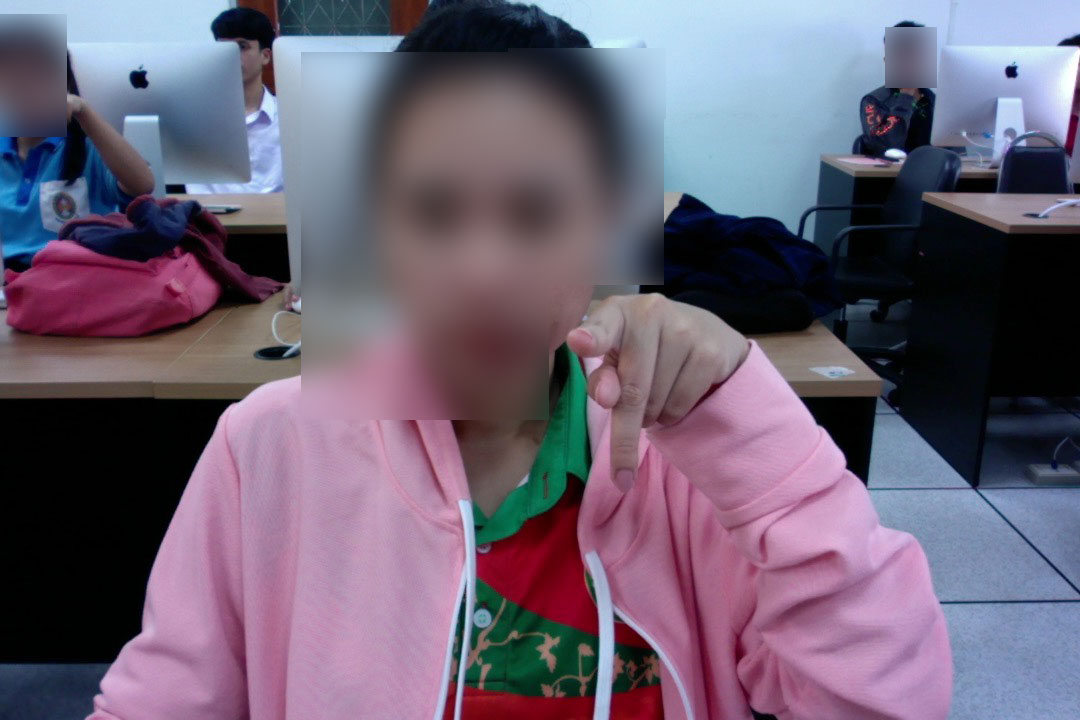por: (566, 278, 744, 495)
